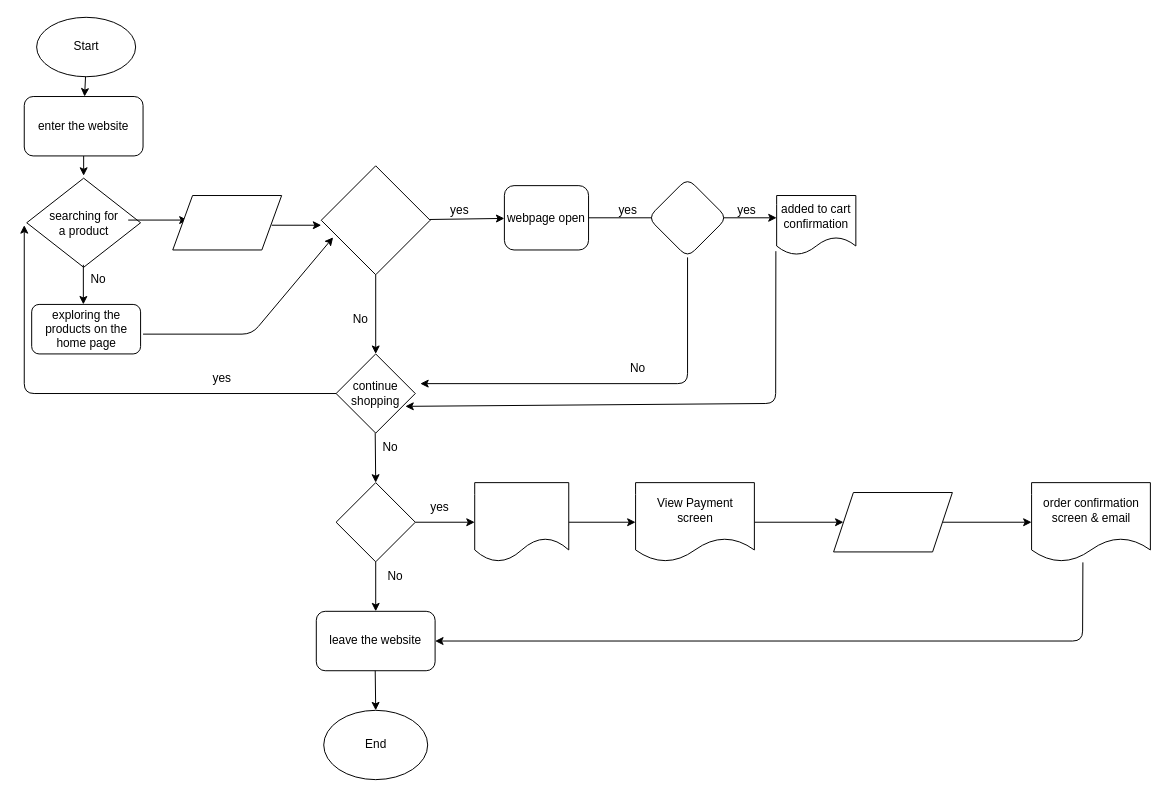
This 1168x797 diagram has some shape labels left out. The shapes that lost their labels are listed below. From the top down, each one's centre as x and y in pixels, then its label:
At point 227,222: "input website".
At point 375,220: "viewing a specific product".
At point 687,217: "add this item to cart".
At point 375,522: "checkout".
At point 521,522: "View Cart screen".
At point 892,522: "payment information".
